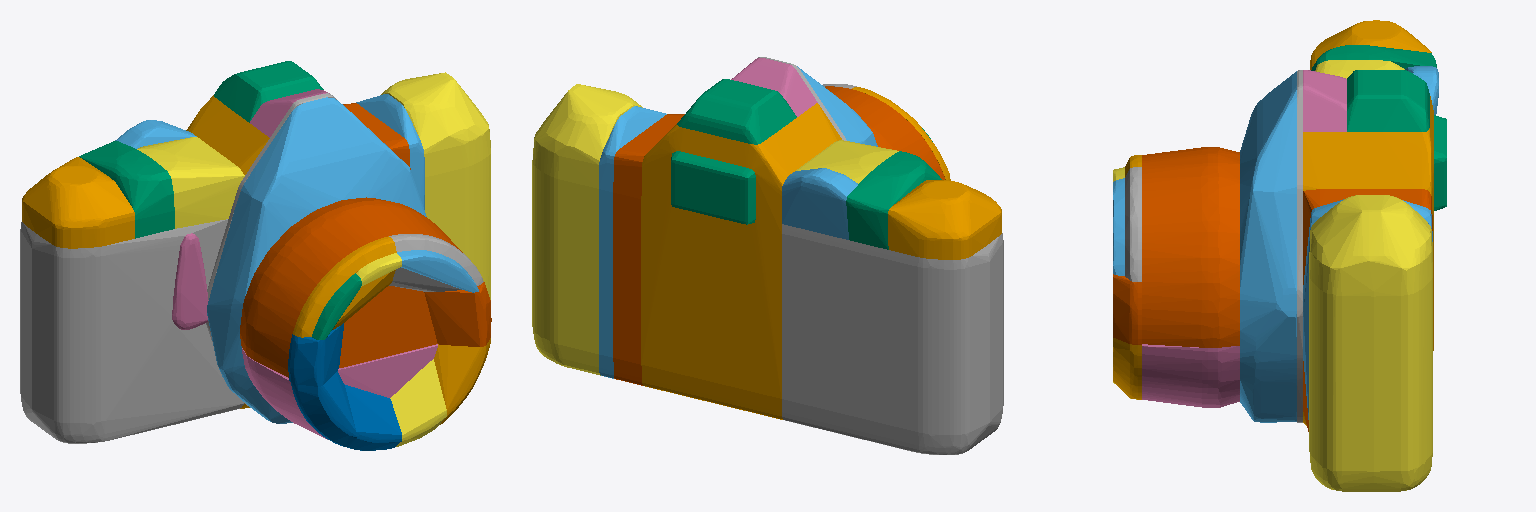
robot.urdf — root:
<robot name="root">
  <link name="link_convex_piece_018.obj">
    <inertial>
      <origin xyz="0 0 0" rpy="0 0 0"/>
    </inertial>
    <visual>
      <origin xyz="0 0 0" rpy="0 0 0"/>
      <geometry>
        <mesh filename="meshes/convex_piece_018.obj" scale="1.0 1.0 1.0"/>
      </geometry>
    </visual>
    <collision>
      <origin xyz="0 0 0" rpy="0 0 0"/>
      <geometry>
        <mesh filename="meshes/convex_piece_018.obj" scale="1.0 1.0 1.0"/>
      </geometry>
    </collision>
  </link>
  <link name="link_convex_piece_026.obj">
    <inertial>
      <origin xyz="0 0 0" rpy="0 0 0"/>
    </inertial>
    <visual>
      <origin xyz="0 0 0" rpy="0 0 0"/>
      <geometry>
        <mesh filename="meshes/convex_piece_026.obj" scale="1.0 1.0 1.0"/>
      </geometry>
    </visual>
    <collision>
      <origin xyz="0 0 0" rpy="0 0 0"/>
      <geometry>
        <mesh filename="meshes/convex_piece_026.obj" scale="1.0 1.0 1.0"/>
      </geometry>
    </collision>
  </link>
  <joint name="link_convex_piece_026.obj_joint" type="fixed">
    <origin xyz="0 0 0" rpy="0 0 0"/>
    <parent link="link_convex_piece_018.obj"/>
    <child link="link_convex_piece_026.obj"/>
  </joint>
  <link name="link_convex_piece_021.obj">
    <inertial>
      <origin xyz="0 0 0" rpy="0 0 0"/>
    </inertial>
    <visual>
      <origin xyz="0 0 0" rpy="0 0 0"/>
      <geometry>
        <mesh filename="meshes/convex_piece_021.obj" scale="1.0 1.0 1.0"/>
      </geometry>
    </visual>
    <collision>
      <origin xyz="0 0 0" rpy="0 0 0"/>
      <geometry>
        <mesh filename="meshes/convex_piece_021.obj" scale="1.0 1.0 1.0"/>
      </geometry>
    </collision>
  </link>
  <joint name="link_convex_piece_021.obj_joint" type="fixed">
    <origin xyz="0 0 0" rpy="0 0 0"/>
    <parent link="link_convex_piece_026.obj"/>
    <child link="link_convex_piece_021.obj"/>
  </joint>
  <link name="link_convex_piece_012.obj">
    <inertial>
      <origin xyz="0 0 0" rpy="0 0 0"/>
    </inertial>
    <visual>
      <origin xyz="0 0 0" rpy="0 0 0"/>
      <geometry>
        <mesh filename="meshes/convex_piece_012.obj" scale="1.0 1.0 1.0"/>
      </geometry>
    </visual>
    <collision>
      <origin xyz="0 0 0" rpy="0 0 0"/>
      <geometry>
        <mesh filename="meshes/convex_piece_012.obj" scale="1.0 1.0 1.0"/>
      </geometry>
    </collision>
  </link>
  <joint name="link_convex_piece_012.obj_joint" type="fixed">
    <origin xyz="0 0 0" rpy="0 0 0"/>
    <parent link="link_convex_piece_021.obj"/>
    <child link="link_convex_piece_012.obj"/>
  </joint>
  <link name="link_convex_piece_019.obj">
    <inertial>
      <origin xyz="0 0 0" rpy="0 0 0"/>
    </inertial>
    <visual>
      <origin xyz="0 0 0" rpy="0 0 0"/>
      <geometry>
        <mesh filename="meshes/convex_piece_019.obj" scale="1.0 1.0 1.0"/>
      </geometry>
    </visual>
    <collision>
      <origin xyz="0 0 0" rpy="0 0 0"/>
      <geometry>
        <mesh filename="meshes/convex_piece_019.obj" scale="1.0 1.0 1.0"/>
      </geometry>
    </collision>
  </link>
  <joint name="link_convex_piece_019.obj_joint" type="fixed">
    <origin xyz="0 0 0" rpy="0 0 0"/>
    <parent link="link_convex_piece_012.obj"/>
    <child link="link_convex_piece_019.obj"/>
  </joint>
  <link name="link_convex_piece_014.obj">
    <inertial>
      <origin xyz="0 0 0" rpy="0 0 0"/>
    </inertial>
    <visual>
      <origin xyz="0 0 0" rpy="0 0 0"/>
      <geometry>
        <mesh filename="meshes/convex_piece_014.obj" scale="1.0 1.0 1.0"/>
      </geometry>
    </visual>
    <collision>
      <origin xyz="0 0 0" rpy="0 0 0"/>
      <geometry>
        <mesh filename="meshes/convex_piece_014.obj" scale="1.0 1.0 1.0"/>
      </geometry>
    </collision>
  </link>
  <joint name="link_convex_piece_014.obj_joint" type="fixed">
    <origin xyz="0 0 0" rpy="0 0 0"/>
    <parent link="link_convex_piece_019.obj"/>
    <child link="link_convex_piece_014.obj"/>
  </joint>
  <link name="link_convex_piece_020.obj">
    <inertial>
      <origin xyz="0 0 0" rpy="0 0 0"/>
    </inertial>
    <visual>
      <origin xyz="0 0 0" rpy="0 0 0"/>
      <geometry>
        <mesh filename="meshes/convex_piece_020.obj" scale="1.0 1.0 1.0"/>
      </geometry>
    </visual>
    <collision>
      <origin xyz="0 0 0" rpy="0 0 0"/>
      <geometry>
        <mesh filename="meshes/convex_piece_020.obj" scale="1.0 1.0 1.0"/>
      </geometry>
    </collision>
  </link>
  <joint name="link_convex_piece_020.obj_joint" type="fixed">
    <origin xyz="0 0 0" rpy="0 0 0"/>
    <parent link="link_convex_piece_014.obj"/>
    <child link="link_convex_piece_020.obj"/>
  </joint>
  <link name="link_convex_piece_004.obj">
    <inertial>
      <origin xyz="0 0 0" rpy="0 0 0"/>
    </inertial>
    <visual>
      <origin xyz="0 0 0" rpy="0 0 0"/>
      <geometry>
        <mesh filename="meshes/convex_piece_004.obj" scale="1.0 1.0 1.0"/>
      </geometry>
    </visual>
    <collision>
      <origin xyz="0 0 0" rpy="0 0 0"/>
      <geometry>
        <mesh filename="meshes/convex_piece_004.obj" scale="1.0 1.0 1.0"/>
      </geometry>
    </collision>
  </link>
  <joint name="link_convex_piece_004.obj_joint" type="fixed">
    <origin xyz="0 0 0" rpy="0 0 0"/>
    <parent link="link_convex_piece_020.obj"/>
    <child link="link_convex_piece_004.obj"/>
  </joint>
  <link name="link_convex_piece_027.obj">
    <inertial>
      <origin xyz="0 0 0" rpy="0 0 0"/>
    </inertial>
    <visual>
      <origin xyz="0 0 0" rpy="0 0 0"/>
      <geometry>
        <mesh filename="meshes/convex_piece_027.obj" scale="1.0 1.0 1.0"/>
      </geometry>
    </visual>
    <collision>
      <origin xyz="0 0 0" rpy="0 0 0"/>
      <geometry>
        <mesh filename="meshes/convex_piece_027.obj" scale="1.0 1.0 1.0"/>
      </geometry>
    </collision>
  </link>
  <joint name="link_convex_piece_027.obj_joint" type="fixed">
    <origin xyz="0 0 0" rpy="0 0 0"/>
    <parent link="link_convex_piece_004.obj"/>
    <child link="link_convex_piece_027.obj"/>
  </joint>
  <link name="link_convex_piece_001.obj">
    <inertial>
      <origin xyz="0 0 0" rpy="0 0 0"/>
    </inertial>
    <visual>
      <origin xyz="0 0 0" rpy="0 0 0"/>
      <geometry>
        <mesh filename="meshes/convex_piece_001.obj" scale="1.0 1.0 1.0"/>
      </geometry>
    </visual>
    <collision>
      <origin xyz="0 0 0" rpy="0 0 0"/>
      <geometry>
        <mesh filename="meshes/convex_piece_001.obj" scale="1.0 1.0 1.0"/>
      </geometry>
    </collision>
  </link>
  <joint name="link_convex_piece_001.obj_joint" type="fixed">
    <origin xyz="0 0 0" rpy="0 0 0"/>
    <parent link="link_convex_piece_027.obj"/>
    <child link="link_convex_piece_001.obj"/>
  </joint>
  <link name="link_convex_piece_015.obj">
    <inertial>
      <origin xyz="0 0 0" rpy="0 0 0"/>
    </inertial>
    <visual>
      <origin xyz="0 0 0" rpy="0 0 0"/>
      <geometry>
        <mesh filename="meshes/convex_piece_015.obj" scale="1.0 1.0 1.0"/>
      </geometry>
    </visual>
    <collision>
      <origin xyz="0 0 0" rpy="0 0 0"/>
      <geometry>
        <mesh filename="meshes/convex_piece_015.obj" scale="1.0 1.0 1.0"/>
      </geometry>
    </collision>
  </link>
  <joint name="link_convex_piece_015.obj_joint" type="fixed">
    <origin xyz="0 0 0" rpy="0 0 0"/>
    <parent link="link_convex_piece_001.obj"/>
    <child link="link_convex_piece_015.obj"/>
  </joint>
  <link name="link_convex_piece_005.obj">
    <inertial>
      <origin xyz="0 0 0" rpy="0 0 0"/>
    </inertial>
    <visual>
      <origin xyz="0 0 0" rpy="0 0 0"/>
      <geometry>
        <mesh filename="meshes/convex_piece_005.obj" scale="1.0 1.0 1.0"/>
      </geometry>
    </visual>
    <collision>
      <origin xyz="0 0 0" rpy="0 0 0"/>
      <geometry>
        <mesh filename="meshes/convex_piece_005.obj" scale="1.0 1.0 1.0"/>
      </geometry>
    </collision>
  </link>
  <joint name="link_convex_piece_005.obj_joint" type="fixed">
    <origin xyz="0 0 0" rpy="0 0 0"/>
    <parent link="link_convex_piece_015.obj"/>
    <child link="link_convex_piece_005.obj"/>
  </joint>
  <link name="link_convex_piece_024.obj">
    <inertial>
      <origin xyz="0 0 0" rpy="0 0 0"/>
    </inertial>
    <visual>
      <origin xyz="0 0 0" rpy="0 0 0"/>
      <geometry>
        <mesh filename="meshes/convex_piece_024.obj" scale="1.0 1.0 1.0"/>
      </geometry>
    </visual>
    <collision>
      <origin xyz="0 0 0" rpy="0 0 0"/>
      <geometry>
        <mesh filename="meshes/convex_piece_024.obj" scale="1.0 1.0 1.0"/>
      </geometry>
    </collision>
  </link>
  <joint name="link_convex_piece_024.obj_joint" type="fixed">
    <origin xyz="0 0 0" rpy="0 0 0"/>
    <parent link="link_convex_piece_005.obj"/>
    <child link="link_convex_piece_024.obj"/>
  </joint>
  <link name="link_convex_piece_013.obj">
    <inertial>
      <origin xyz="0 0 0" rpy="0 0 0"/>
    </inertial>
    <visual>
      <origin xyz="0 0 0" rpy="0 0 0"/>
      <geometry>
        <mesh filename="meshes/convex_piece_013.obj" scale="1.0 1.0 1.0"/>
      </geometry>
    </visual>
    <collision>
      <origin xyz="0 0 0" rpy="0 0 0"/>
      <geometry>
        <mesh filename="meshes/convex_piece_013.obj" scale="1.0 1.0 1.0"/>
      </geometry>
    </collision>
  </link>
  <joint name="link_convex_piece_013.obj_joint" type="fixed">
    <origin xyz="0 0 0" rpy="0 0 0"/>
    <parent link="link_convex_piece_024.obj"/>
    <child link="link_convex_piece_013.obj"/>
  </joint>
  <link name="link_convex_piece_002.obj">
    <inertial>
      <origin xyz="0 0 0" rpy="0 0 0"/>
    </inertial>
    <visual>
      <origin xyz="0 0 0" rpy="0 0 0"/>
      <geometry>
        <mesh filename="meshes/convex_piece_002.obj" scale="1.0 1.0 1.0"/>
      </geometry>
    </visual>
    <collision>
      <origin xyz="0 0 0" rpy="0 0 0"/>
      <geometry>
        <mesh filename="meshes/convex_piece_002.obj" scale="1.0 1.0 1.0"/>
      </geometry>
    </collision>
  </link>
  <joint name="link_convex_piece_002.obj_joint" type="fixed">
    <origin xyz="0 0 0" rpy="0 0 0"/>
    <parent link="link_convex_piece_013.obj"/>
    <child link="link_convex_piece_002.obj"/>
  </joint>
  <link name="link_convex_piece_025.obj">
    <inertial>
      <origin xyz="0 0 0" rpy="0 0 0"/>
    </inertial>
    <visual>
      <origin xyz="0 0 0" rpy="0 0 0"/>
      <geometry>
        <mesh filename="meshes/convex_piece_025.obj" scale="1.0 1.0 1.0"/>
      </geometry>
    </visual>
    <collision>
      <origin xyz="0 0 0" rpy="0 0 0"/>
      <geometry>
        <mesh filename="meshes/convex_piece_025.obj" scale="1.0 1.0 1.0"/>
      </geometry>
    </collision>
  </link>
  <joint name="link_convex_piece_025.obj_joint" type="fixed">
    <origin xyz="0 0 0" rpy="0 0 0"/>
    <parent link="link_convex_piece_002.obj"/>
    <child link="link_convex_piece_025.obj"/>
  </joint>
  <link name="link_convex_piece_010.obj">
    <inertial>
      <origin xyz="0 0 0" rpy="0 0 0"/>
    </inertial>
    <visual>
      <origin xyz="0 0 0" rpy="0 0 0"/>
      <geometry>
        <mesh filename="meshes/convex_piece_010.obj" scale="1.0 1.0 1.0"/>
      </geometry>
    </visual>
    <collision>
      <origin xyz="0 0 0" rpy="0 0 0"/>
      <geometry>
        <mesh filename="meshes/convex_piece_010.obj" scale="1.0 1.0 1.0"/>
      </geometry>
    </collision>
  </link>
  <joint name="link_convex_piece_010.obj_joint" type="fixed">
    <origin xyz="0 0 0" rpy="0 0 0"/>
    <parent link="link_convex_piece_025.obj"/>
    <child link="link_convex_piece_010.obj"/>
  </joint>
  <link name="link_convex_piece_006.obj">
    <inertial>
      <origin xyz="0 0 0" rpy="0 0 0"/>
    </inertial>
    <visual>
      <origin xyz="0 0 0" rpy="0 0 0"/>
      <geometry>
        <mesh filename="meshes/convex_piece_006.obj" scale="1.0 1.0 1.0"/>
      </geometry>
    </visual>
    <collision>
      <origin xyz="0 0 0" rpy="0 0 0"/>
      <geometry>
        <mesh filename="meshes/convex_piece_006.obj" scale="1.0 1.0 1.0"/>
      </geometry>
    </collision>
  </link>
  <joint name="link_convex_piece_006.obj_joint" type="fixed">
    <origin xyz="0 0 0" rpy="0 0 0"/>
    <parent link="link_convex_piece_010.obj"/>
    <child link="link_convex_piece_006.obj"/>
  </joint>
  <link name="link_convex_piece_003.obj">
    <inertial>
      <origin xyz="0 0 0" rpy="0 0 0"/>
    </inertial>
    <visual>
      <origin xyz="0 0 0" rpy="0 0 0"/>
      <geometry>
        <mesh filename="meshes/convex_piece_003.obj" scale="1.0 1.0 1.0"/>
      </geometry>
    </visual>
    <collision>
      <origin xyz="0 0 0" rpy="0 0 0"/>
      <geometry>
        <mesh filename="meshes/convex_piece_003.obj" scale="1.0 1.0 1.0"/>
      </geometry>
    </collision>
  </link>
  <joint name="link_convex_piece_003.obj_joint" type="fixed">
    <origin xyz="0 0 0" rpy="0 0 0"/>
    <parent link="link_convex_piece_006.obj"/>
    <child link="link_convex_piece_003.obj"/>
  </joint>
  <link name="link_convex_piece_008.obj">
    <inertial>
      <origin xyz="0 0 0" rpy="0 0 0"/>
    </inertial>
    <visual>
      <origin xyz="0 0 0" rpy="0 0 0"/>
      <geometry>
        <mesh filename="meshes/convex_piece_008.obj" scale="1.0 1.0 1.0"/>
      </geometry>
    </visual>
    <collision>
      <origin xyz="0 0 0" rpy="0 0 0"/>
      <geometry>
        <mesh filename="meshes/convex_piece_008.obj" scale="1.0 1.0 1.0"/>
      </geometry>
    </collision>
  </link>
  <joint name="link_convex_piece_008.obj_joint" type="fixed">
    <origin xyz="0 0 0" rpy="0 0 0"/>
    <parent link="link_convex_piece_003.obj"/>
    <child link="link_convex_piece_008.obj"/>
  </joint>
  <link name="link_convex_piece_023.obj">
    <inertial>
      <origin xyz="0 0 0" rpy="0 0 0"/>
    </inertial>
    <visual>
      <origin xyz="0 0 0" rpy="0 0 0"/>
      <geometry>
        <mesh filename="meshes/convex_piece_023.obj" scale="1.0 1.0 1.0"/>
      </geometry>
    </visual>
    <collision>
      <origin xyz="0 0 0" rpy="0 0 0"/>
      <geometry>
        <mesh filename="meshes/convex_piece_023.obj" scale="1.0 1.0 1.0"/>
      </geometry>
    </collision>
  </link>
  <joint name="link_convex_piece_023.obj_joint" type="fixed">
    <origin xyz="0 0 0" rpy="0 0 0"/>
    <parent link="link_convex_piece_008.obj"/>
    <child link="link_convex_piece_023.obj"/>
  </joint>
  <link name="link_convex_piece_022.obj">
    <inertial>
      <origin xyz="0 0 0" rpy="0 0 0"/>
    </inertial>
    <visual>
      <origin xyz="0 0 0" rpy="0 0 0"/>
      <geometry>
        <mesh filename="meshes/convex_piece_022.obj" scale="1.0 1.0 1.0"/>
      </geometry>
    </visual>
    <collision>
      <origin xyz="0 0 0" rpy="0 0 0"/>
      <geometry>
        <mesh filename="meshes/convex_piece_022.obj" scale="1.0 1.0 1.0"/>
      </geometry>
    </collision>
  </link>
  <joint name="link_convex_piece_022.obj_joint" type="fixed">
    <origin xyz="0 0 0" rpy="0 0 0"/>
    <parent link="link_convex_piece_023.obj"/>
    <child link="link_convex_piece_022.obj"/>
  </joint>
  <link name="link_convex_piece_011.obj">
    <inertial>
      <origin xyz="0 0 0" rpy="0 0 0"/>
    </inertial>
    <visual>
      <origin xyz="0 0 0" rpy="0 0 0"/>
      <geometry>
        <mesh filename="meshes/convex_piece_011.obj" scale="1.0 1.0 1.0"/>
      </geometry>
    </visual>
    <collision>
      <origin xyz="0 0 0" rpy="0 0 0"/>
      <geometry>
        <mesh filename="meshes/convex_piece_011.obj" scale="1.0 1.0 1.0"/>
      </geometry>
    </collision>
  </link>
  <joint name="link_convex_piece_011.obj_joint" type="fixed">
    <origin xyz="0 0 0" rpy="0 0 0"/>
    <parent link="link_convex_piece_022.obj"/>
    <child link="link_convex_piece_011.obj"/>
  </joint>
  <link name="link_convex_piece_000.obj">
    <inertial>
      <origin xyz="0 0 0" rpy="0 0 0"/>
    </inertial>
    <visual>
      <origin xyz="0 0 0" rpy="0 0 0"/>
      <geometry>
        <mesh filename="meshes/convex_piece_000.obj" scale="1.0 1.0 1.0"/>
      </geometry>
    </visual>
    <collision>
      <origin xyz="0 0 0" rpy="0 0 0"/>
      <geometry>
        <mesh filename="meshes/convex_piece_000.obj" scale="1.0 1.0 1.0"/>
      </geometry>
    </collision>
  </link>
  <joint name="link_convex_piece_000.obj_joint" type="fixed">
    <origin xyz="0 0 0" rpy="0 0 0"/>
    <parent link="link_convex_piece_011.obj"/>
    <child link="link_convex_piece_000.obj"/>
  </joint>
  <link name="link_convex_piece_016.obj">
    <inertial>
      <origin xyz="0 0 0" rpy="0 0 0"/>
    </inertial>
    <visual>
      <origin xyz="0 0 0" rpy="0 0 0"/>
      <geometry>
        <mesh filename="meshes/convex_piece_016.obj" scale="1.0 1.0 1.0"/>
      </geometry>
    </visual>
    <collision>
      <origin xyz="0 0 0" rpy="0 0 0"/>
      <geometry>
        <mesh filename="meshes/convex_piece_016.obj" scale="1.0 1.0 1.0"/>
      </geometry>
    </collision>
  </link>
  <joint name="link_convex_piece_016.obj_joint" type="fixed">
    <origin xyz="0 0 0" rpy="0 0 0"/>
    <parent link="link_convex_piece_000.obj"/>
    <child link="link_convex_piece_016.obj"/>
  </joint>
  <link name="link_convex_piece_009.obj">
    <inertial>
      <origin xyz="0 0 0" rpy="0 0 0"/>
    </inertial>
    <visual>
      <origin xyz="0 0 0" rpy="0 0 0"/>
      <geometry>
        <mesh filename="meshes/convex_piece_009.obj" scale="1.0 1.0 1.0"/>
      </geometry>
    </visual>
    <collision>
      <origin xyz="0 0 0" rpy="0 0 0"/>
      <geometry>
        <mesh filename="meshes/convex_piece_009.obj" scale="1.0 1.0 1.0"/>
      </geometry>
    </collision>
  </link>
  <joint name="link_convex_piece_009.obj_joint" type="fixed">
    <origin xyz="0 0 0" rpy="0 0 0"/>
    <parent link="link_convex_piece_016.obj"/>
    <child link="link_convex_piece_009.obj"/>
  </joint>
  <link name="link_convex_piece_007.obj">
    <inertial>
      <origin xyz="0 0 0" rpy="0 0 0"/>
    </inertial>
    <visual>
      <origin xyz="0 0 0" rpy="0 0 0"/>
      <geometry>
        <mesh filename="meshes/convex_piece_007.obj" scale="1.0 1.0 1.0"/>
      </geometry>
    </visual>
    <collision>
      <origin xyz="0 0 0" rpy="0 0 0"/>
      <geometry>
        <mesh filename="meshes/convex_piece_007.obj" scale="1.0 1.0 1.0"/>
      </geometry>
    </collision>
  </link>
  <joint name="link_convex_piece_007.obj_joint" type="fixed">
    <origin xyz="0 0 0" rpy="0 0 0"/>
    <parent link="link_convex_piece_009.obj"/>
    <child link="link_convex_piece_007.obj"/>
  </joint>
  <link name="link_convex_piece_017.obj">
    <inertial>
      <origin xyz="0 0 0" rpy="0 0 0"/>
    </inertial>
    <visual>
      <origin xyz="0 0 0" rpy="0 0 0"/>
      <geometry>
        <mesh filename="meshes/convex_piece_017.obj" scale="1.0 1.0 1.0"/>
      </geometry>
    </visual>
    <collision>
      <origin xyz="0 0 0" rpy="0 0 0"/>
      <geometry>
        <mesh filename="meshes/convex_piece_017.obj" scale="1.0 1.0 1.0"/>
      </geometry>
    </collision>
  </link>
  <joint name="link_convex_piece_017.obj_joint" type="fixed">
    <origin xyz="0 0 0" rpy="0 0 0"/>
    <parent link="link_convex_piece_007.obj"/>
    <child link="link_convex_piece_017.obj"/>
  </joint>
</robot>

--- Render facts (derived) ---
Views: 3 orthographic renders of the robot side by side, from view 1: azimuth 30°, elevation 25°; view 2: azimuth 150°, elevation 25°; view 3: azimuth 270°, elevation 25°.
Model root with 28 links and 27 joints (27 fixed), rooted at link_convex_piece_018.obj, posed every joint at zero.
Visible links, largest first — view 1: link_convex_piece_000.obj, link_convex_piece_001.obj, link_convex_piece_013.obj, link_convex_piece_005.obj, link_convex_piece_010.obj, link_convex_piece_008.obj, link_convex_piece_007.obj, link_convex_piece_011.obj, link_convex_piece_027.obj, link_convex_piece_021.obj, link_convex_piece_022.obj, link_convex_piece_016.obj (+15 smaller); view 2: link_convex_piece_000.obj, link_convex_piece_016.obj, link_convex_piece_005.obj, link_convex_piece_014.obj, link_convex_piece_010.obj, link_convex_piece_021.obj, link_convex_piece_003.obj, link_convex_piece_009.obj, link_convex_piece_007.obj, link_convex_piece_006.obj, link_convex_piece_013.obj, link_convex_piece_020.obj (+3 smaller); view 3: link_convex_piece_005.obj, link_convex_piece_013.obj, link_convex_piece_001.obj, link_convex_piece_016.obj, link_convex_piece_011.obj, link_convex_piece_021.obj, link_convex_piece_020.obj, link_convex_piece_010.obj, link_convex_piece_004.obj, link_convex_piece_014.obj, link_convex_piece_025.obj, link_convex_piece_022.obj (+7 smaller).
Boxes of the visible links, x1,y1,x2,y2 form: link_convex_piece_000.obj: (20, 219, 244, 443); link_convex_piece_001.obj: (207, 97, 426, 423); link_convex_piece_013.obj: (240, 197, 462, 377); link_convex_piece_005.obj: (381, 72, 490, 299); link_convex_piece_010.obj: (22, 157, 134, 248); link_convex_piece_008.obj: (137, 137, 244, 228); link_convex_piece_007.obj: (79, 141, 174, 238); link_convex_piece_011.obj: (242, 344, 437, 439); link_convex_piece_027.obj: (293, 236, 396, 337); link_convex_piece_021.obj: (214, 61, 323, 122); link_convex_piece_022.obj: (424, 282, 491, 346); link_convex_piece_016.obj: (186, 95, 269, 408); link_convex_piece_000.obj: (782, 224, 1003, 454); link_convex_piece_016.obj: (641, 103, 841, 419); link_convex_piece_005.obj: (532, 84, 642, 375); link_convex_piece_014.obj: (613, 114, 684, 385); link_convex_piece_010.obj: (888, 180, 1001, 259); link_convex_piece_021.obj: (677, 79, 796, 144); link_convex_piece_003.obj: (671, 151, 755, 224); link_convex_piece_009.obj: (599, 106, 666, 378); link_convex_piece_007.obj: (846, 151, 941, 249); link_convex_piece_006.obj: (782, 168, 857, 239); link_convex_piece_013.obj: (825, 86, 944, 179); link_convex_piece_020.obj: (731, 58, 817, 116); link_convex_piece_005.obj: (1309, 195, 1432, 491); link_convex_piece_013.obj: (1142, 147, 1239, 347); link_convex_piece_001.obj: (1240, 71, 1296, 422); link_convex_piece_016.obj: (1303, 96, 1433, 425); link_convex_piece_011.obj: (1142, 344, 1239, 407); link_convex_piece_021.obj: (1347, 70, 1429, 131); link_convex_piece_020.obj: (1303, 70, 1346, 131); link_convex_piece_010.obj: (1310, 20, 1431, 69); link_convex_piece_004.obj: (1297, 70, 1302, 422); link_convex_piece_014.obj: (1303, 189, 1432, 431); link_convex_piece_025.obj: (1125, 167, 1141, 281); link_convex_piece_022.obj: (1113, 274, 1141, 344).
Size in the robot's own frame: 1.51 by 0.9312 by 0.9804 metres.
Meshes: 28 distinct files referenced, 28 mesh visuals loaded (28 OBJ).
